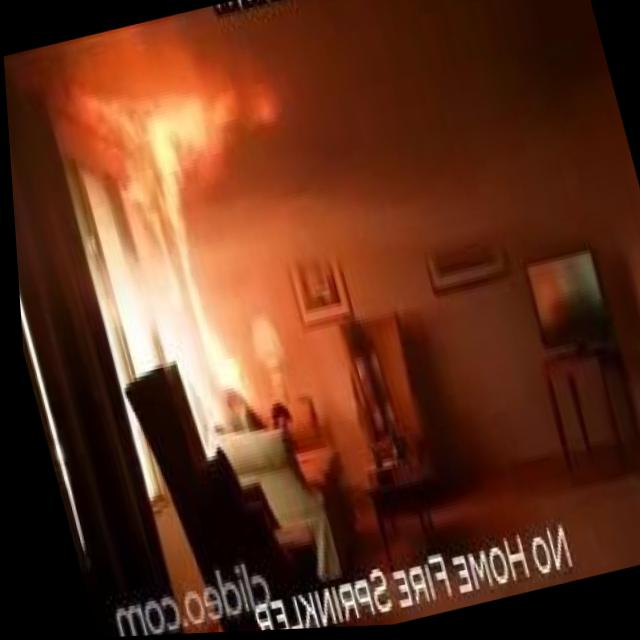fire: (124, 63, 302, 214), (158, 203, 255, 393)
